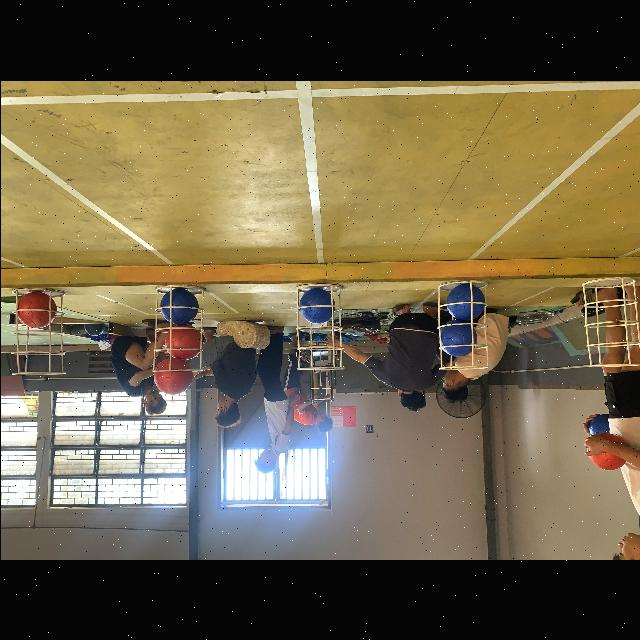B: (444, 284, 484, 322), (437, 319, 477, 355), (161, 289, 197, 325), (298, 288, 334, 322), (589, 414, 608, 435)
R: (13, 290, 55, 328), (586, 432, 626, 470), (152, 358, 190, 394), (165, 324, 201, 361)
